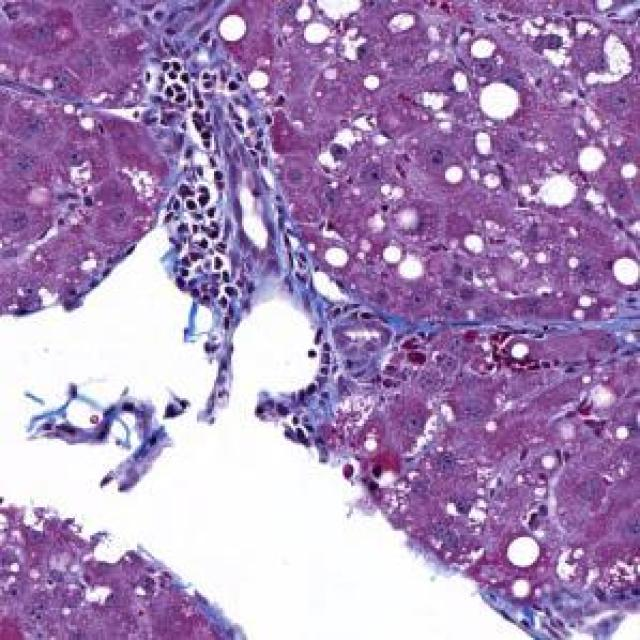fibrosis: (148, 79, 308, 298)
